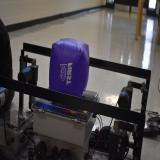cube: (49, 38, 89, 97)
